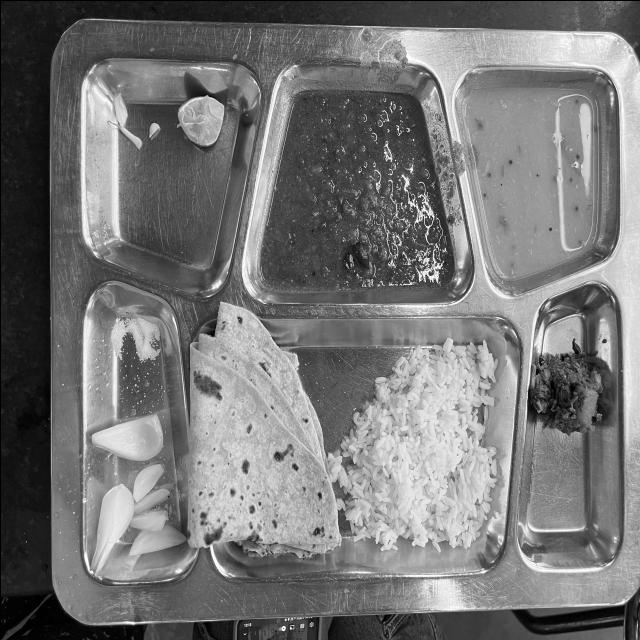70.5- Food Left: (79, 52, 638, 586)
